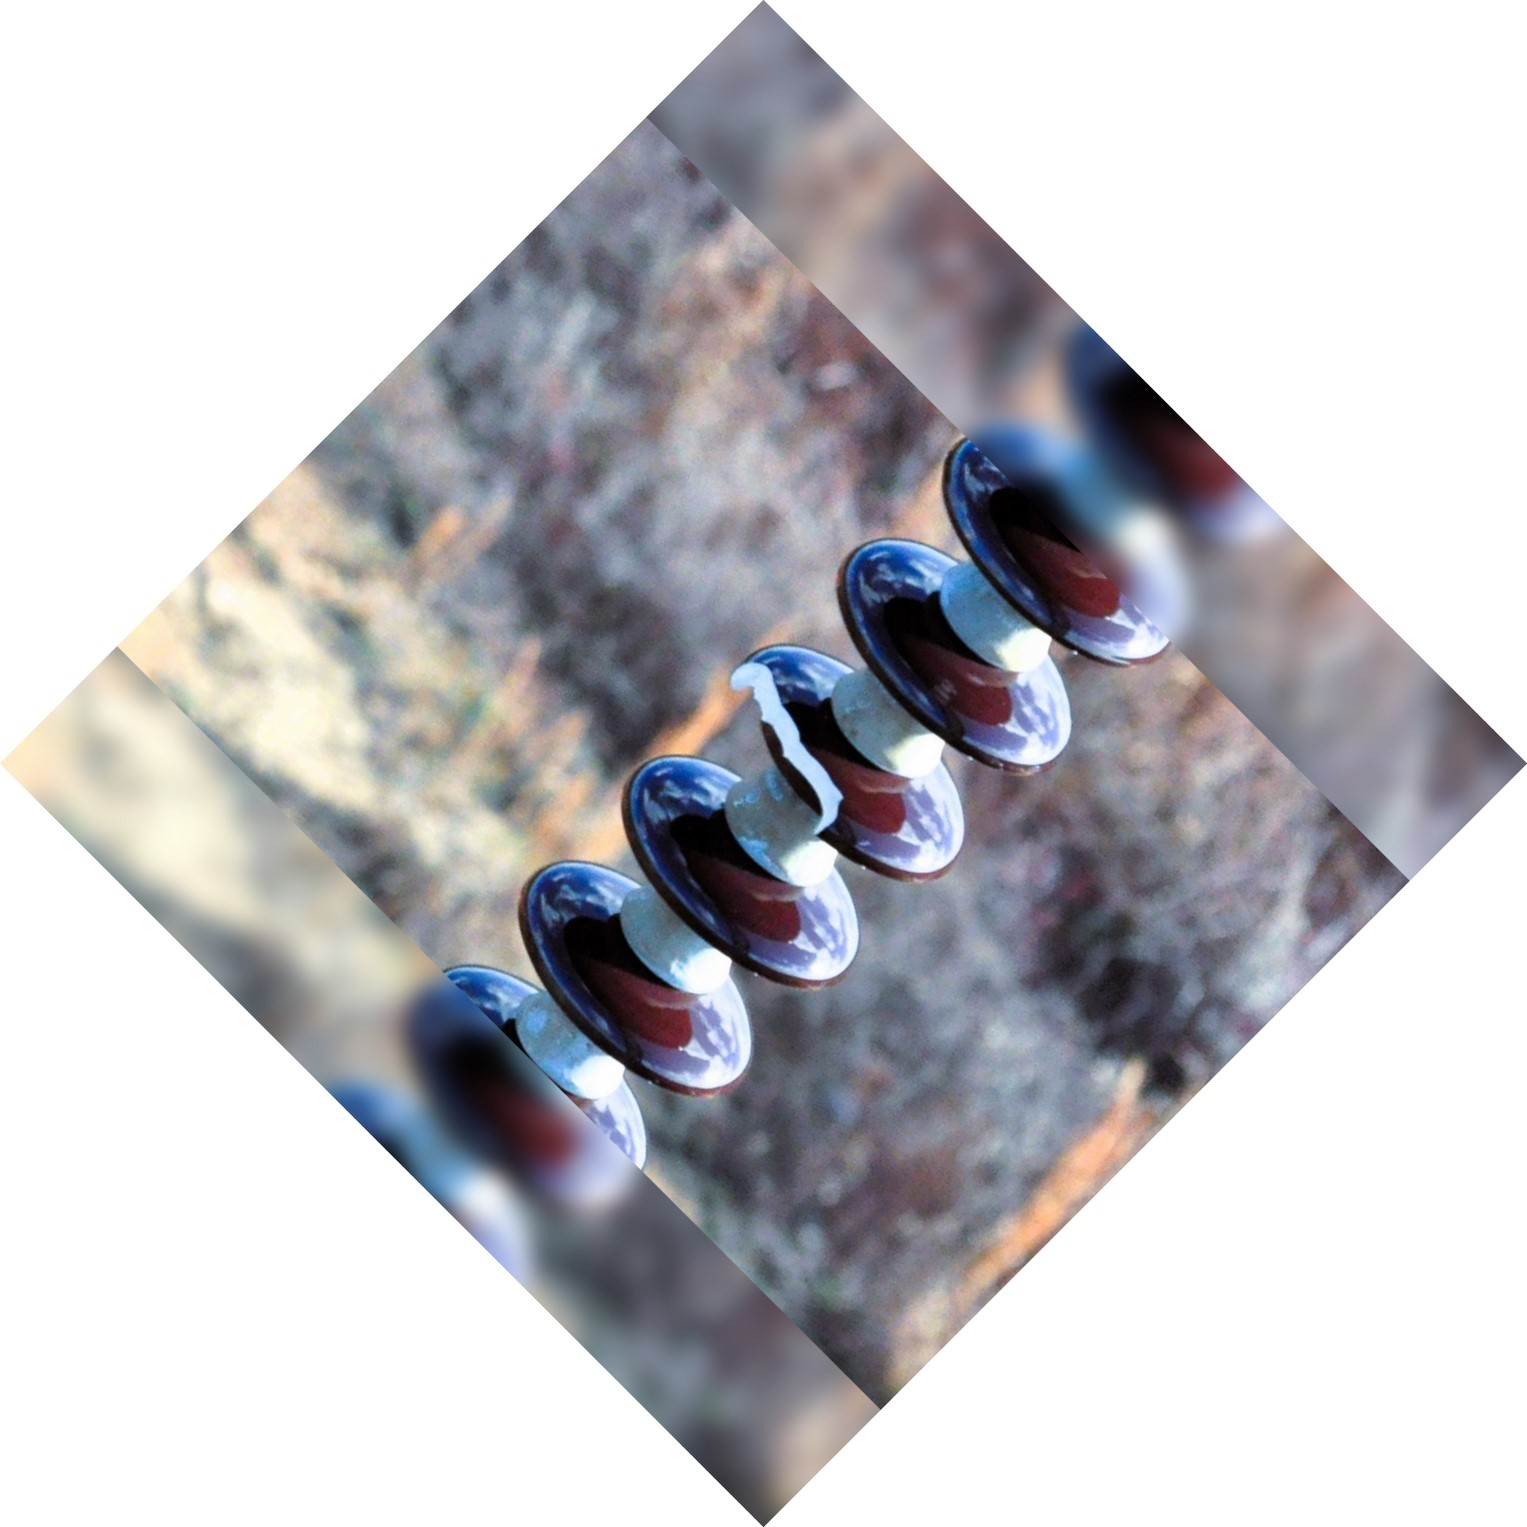insulator breakage: (722, 638, 970, 903)
